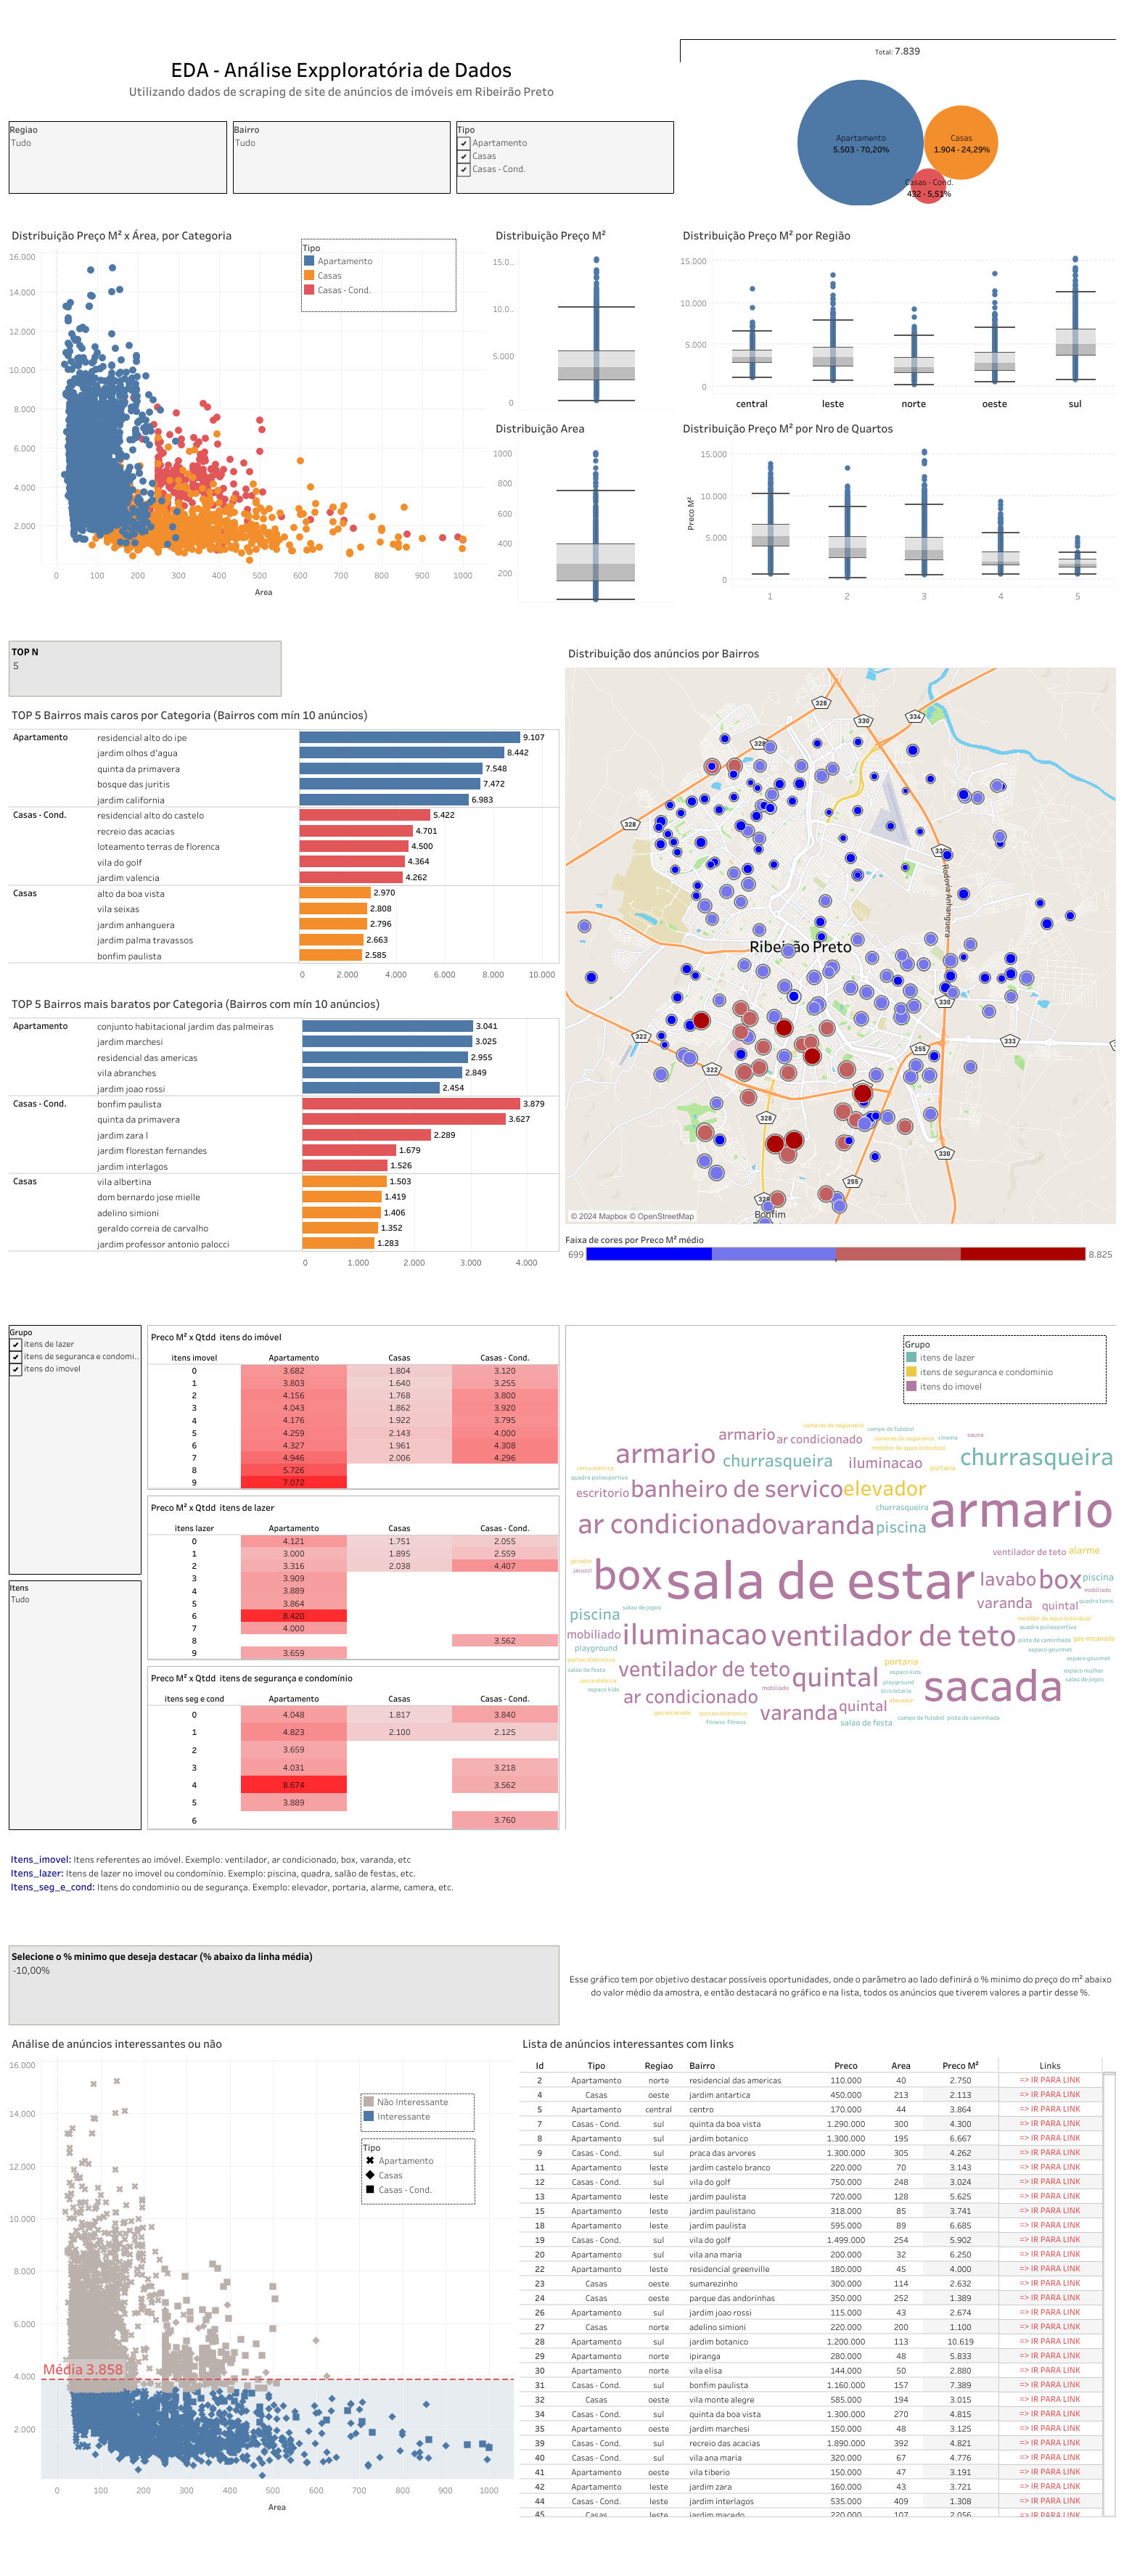

Layout of this report page (visuals, bound fields, positions):
{"tool":"tableau","page":{"name":"EDA imoveis Ribeirão Preto","canvas":[1550,3551],"ordinal":0},"visuals":[{"type":"blank","box":[8,8,1534,42]},{"type":"text","box":[8,50,925.1,113]},{"type":"worksheet","title":"Total registros","mark":"Text","box":[933.1,50,608.9,40]},{"type":"worksheet","title":"Registros","mark":"Circle","box":[933.1,90,608.9,213]},{"type":"filter","title":"Disp Pr x Met x Tip","param":"[federated.0lkpdwg0quyqui188fp2o17kz8ge].[none:zona (base_bairros.csv1):nk]","box":[8,163,309,108]},{"type":"filter","title":"Disp Pr x Met x Tip","param":"[federated.0lkpdwg0quyqui188fp2o17kz8ge].[none:bairro:nk]","box":[317,163,308,108]},{"type":"filter","title":"Disp Pr x Met x Tip","param":"[federated.0lkpdwg0quyqui188fp2o17kz8ge].[none:Calculation_739434823143641089:nk","box":[625,163,308,108]},{"type":"blank","box":[8,271,925.1,32]},{"type":"worksheet","title":"Disp Pr x Met x Tip","mark":"Circle","rows":["Calculation_1235956676059029507"],"cols":["Calculation_1235956676058034176"],"box":[8,303,667,531]},{"type":"worksheet","title":"Dist Preco M2","mark":"Circle","rows":["Calculation_1235956676059029507"],"box":[675,303,258,266]},{"type":"worksheet","title":"Pr x Regiao","mark":"Circle","rows":["Calculation_1235956676059029507"],"cols":["zona (base_bairros.csv1)"],"box":[933,303,609,266]},{"type":"legend","title":"Disp Pr x Met x Tip","param":"[federated.0lkpdwg0quyqui188fp2o17kz8ge].[none:Calculation_739434823143641089:nk","box":[415,329,214,101]},{"type":"worksheet","title":"Dist Area","mark":"Circle","rows":["Calculation_1235956676058034176"],"box":[675,569,258,265]},{"type":"worksheet","title":"Pr x NroQuartos","mark":"Circle","rows":["Calculation_1235956676059029507"],"cols":["quartos"],"box":[933,569,609,265]},{"type":"blank","box":[8,834,1534,45]},{"type":"parameter","param":"[Parameters].[Parâmetro 1]","box":[8,879,384,89]},{"type":"blank","box":[392,879,383,89]},{"type":"worksheet","title":"Map x Pr","mark":"Circle","box":[775,879,767,807]},{"type":"worksheet","title":"TOP N Bairros mais caros x Categoria","mark":"Automatic","rows":["Calculation_739434823143641089","bairro"],"cols":["Calculation_1235956676059029507"],"box":[8,968,767,396]},{"type":"worksheet","title":"TOP N Bairros mais baratos x Categoria (2)","mark":"Automatic","rows":["Calculation_739434823143641089","bairro"],"cols":["Calculation_1235956676059029507"],"box":[8,1364,767,395]},{"type":"legend","title":"Map x Pr","param":"[federated.0lkpdwg0quyqui188fp2o17kz8ge].[avg:Calculation_1235956676059029507:qk","box":[775,1686,767,73]},{"type":"blank","box":[8,1759,1534,63]},{"type":"filter","title":"Pr x Itens","param":"[federated.0lkpdwg0quyqui188fp2o17kz8ge].[none:grupo:nk]","box":[8,1822,191,352]},{"type":"worksheet","title":"Pr x Itens","mark":"Square","rows":["Calculation_193654840739168256"],"cols":["Calculation_739434823143641089"],"box":[199,1822,576,235]},{"type":"worksheet","title":"Cloud Itens","mark":"Text","box":[775,1822,767,704]},{"type":"legend","title":"Cloud Itens","param":"[federated.0lkpdwg0quyqui188fp2o17kz8ge].[none:grupo:nk]","box":[1245,1840,280,95]},{"type":"worksheet","title":"Pr x Itens lazer","mark":"Square","rows":["Calculation_193654840739282945"],"cols":["Calculation_739434823143641089"],"box":[199,2057,576,235]},{"type":"filter","title":"Pr x Itens","param":"[federated.0lkpdwg0quyqui188fp2o17kz8ge].[none:itens:nk]","box":[8,2174,191,352]},{"type":"worksheet","title":"Pr x Itens seg","mark":"Square","rows":["Calculation_193654840739352578"],"cols":["Calculation_739434823143641089"],"box":[199,2292,576,234]},{"type":"text","box":[8,2526,1534,109]},{"type":"blank","box":[8,2635,1534,42]},{"type":"parameter","param":"[Parameters].[TOP N (cópia)]","box":[8,2677,767,118]},{"type":"text","box":[775,2677,767,118]},{"type":"worksheet","title":"Anuncios Interessantes","mark":"Shape","rows":["Calculation_1235956676059029507"],"cols":["Calculation_1235956676058034176"],"box":[8,2795,704,678.5]},{"type":"worksheet","title":"Lista Anuncios Interessantes","mark":"Text","rows":["id","Calculation_739434823143641089","zona (base_bairros.csv1)","bairro","Calculation_1235956676058931202","Calculation_1235956676058034176","Calculation_1235956676059029507"],"cols":["Calculation_78250103488622593"],"box":[712,2795,830,678.5]},{"type":"legend","title":"Anuncios Interessantes","param":"[federated.0lkpdwg0quyqui188fp2o17kz8ge].[none:Calculation_1140818140262498307:n","box":[497,2885,157,53]},{"type":"legend","title":"Anuncios Interessantes","param":"[federated.0lkpdwg0quyqui188fp2o17kz8ge].[none:Calculation_739434823143641089:nk","box":[498,2947,157,91]},{"type":"blank","box":[8,3473.5,1534,69.5]}]}

Visuals, with their boxes in screenshot pixels (x1, y1, x2, y2), scaled from the page's 1550x3551 canvas onto the 1124x2576 screenshot:
blank: pyautogui.locateOnScreen(6, 6, 1118, 36)
text: pyautogui.locateOnScreen(6, 36, 676, 118)
"Total registros" worksheet (Text marks): pyautogui.locateOnScreen(676, 36, 1118, 65)
"Registros" worksheet (Circle marks): pyautogui.locateOnScreen(676, 65, 1118, 220)
"Disp Pr x Met x Tip" filter: pyautogui.locateOnScreen(6, 118, 230, 197)
"Disp Pr x Met x Tip" filter: pyautogui.locateOnScreen(230, 118, 454, 197)
"Disp Pr x Met x Tip" filter: pyautogui.locateOnScreen(454, 118, 676, 197)
blank: pyautogui.locateOnScreen(6, 197, 676, 220)
"Disp Pr x Met x Tip" worksheet (Circle marks): pyautogui.locateOnScreen(6, 220, 490, 605)
"Dist Preco M2" worksheet (Circle marks): pyautogui.locateOnScreen(490, 220, 676, 413)
"Pr x Regiao" worksheet (Circle marks): pyautogui.locateOnScreen(676, 220, 1118, 413)
"Disp Pr x Met x Tip" legend: pyautogui.locateOnScreen(301, 239, 456, 312)
"Dist Area" worksheet (Circle marks): pyautogui.locateOnScreen(490, 413, 676, 605)
"Pr x NroQuartos" worksheet (Circle marks): pyautogui.locateOnScreen(676, 413, 1118, 605)
blank: pyautogui.locateOnScreen(6, 605, 1118, 638)
parameter: pyautogui.locateOnScreen(6, 638, 284, 702)
blank: pyautogui.locateOnScreen(284, 638, 562, 702)
"Map x Pr" worksheet (Circle marks): pyautogui.locateOnScreen(562, 638, 1118, 1223)
"TOP N Bairros mais caros x Categoria" worksheet: pyautogui.locateOnScreen(6, 702, 562, 990)
"TOP N Bairros mais baratos x Categoria (2)" worksheet: pyautogui.locateOnScreen(6, 990, 562, 1276)
"Map x Pr" legend: pyautogui.locateOnScreen(562, 1223, 1118, 1276)
blank: pyautogui.locateOnScreen(6, 1276, 1118, 1321)
"Pr x Itens" filter: pyautogui.locateOnScreen(6, 1321, 144, 1577)
"Pr x Itens" worksheet (Square marks): pyautogui.locateOnScreen(144, 1321, 562, 1492)
"Cloud Itens" worksheet (Text marks): pyautogui.locateOnScreen(562, 1321, 1118, 1832)
"Cloud Itens" legend: pyautogui.locateOnScreen(903, 1334, 1106, 1403)
"Pr x Itens lazer" worksheet (Square marks): pyautogui.locateOnScreen(144, 1492, 562, 1662)
"Pr x Itens" filter: pyautogui.locateOnScreen(6, 1577, 144, 1832)
"Pr x Itens seg" worksheet (Square marks): pyautogui.locateOnScreen(144, 1662, 562, 1832)
text: pyautogui.locateOnScreen(6, 1832, 1118, 1911)
blank: pyautogui.locateOnScreen(6, 1911, 1118, 1942)
parameter: pyautogui.locateOnScreen(6, 1942, 562, 2027)
text: pyautogui.locateOnScreen(562, 1942, 1118, 2027)
"Anuncios Interessantes" worksheet (Shape marks): pyautogui.locateOnScreen(6, 2027, 517, 2520)
"Lista Anuncios Interessantes" worksheet (Text marks): pyautogui.locateOnScreen(517, 2027, 1118, 2520)
"Anuncios Interessantes" legend: pyautogui.locateOnScreen(361, 2093, 475, 2131)
"Anuncios Interessantes" legend: pyautogui.locateOnScreen(361, 2138, 475, 2204)
blank: pyautogui.locateOnScreen(6, 2520, 1118, 2570)
